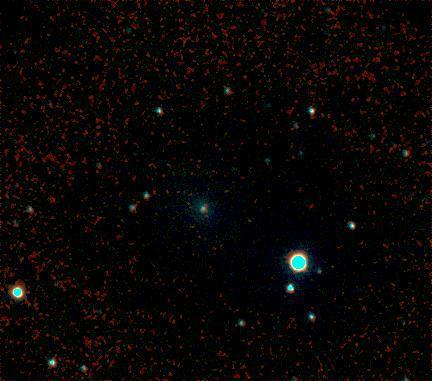star: (246, 59, 276, 89)
